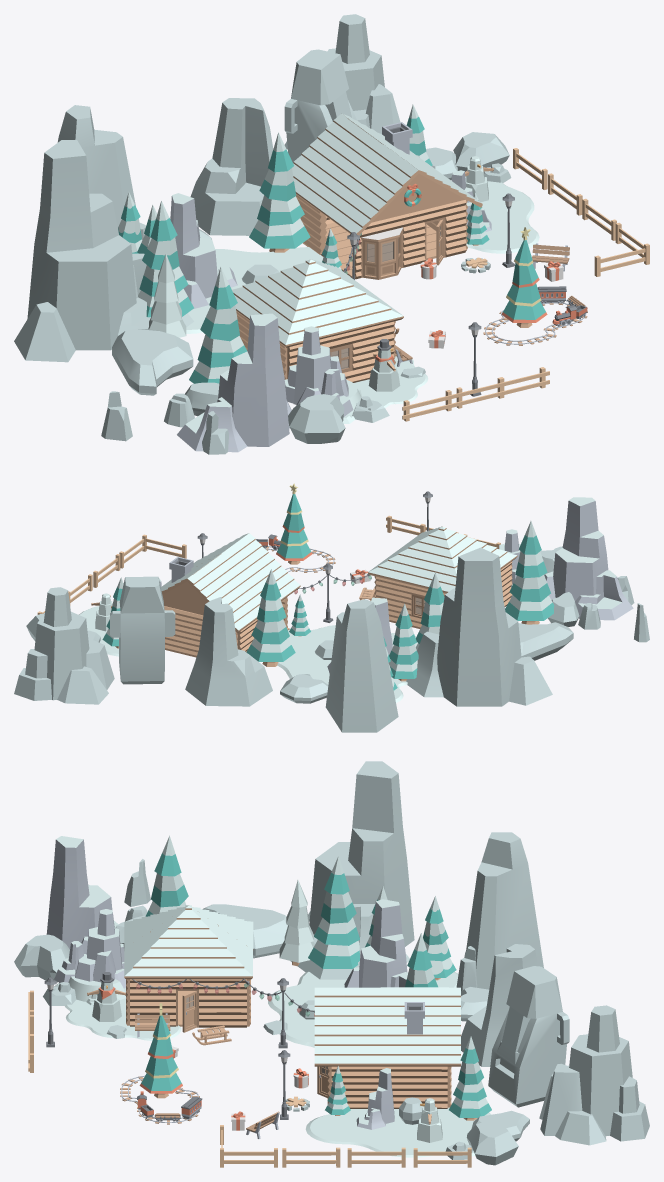
Rendered from christmas.glb.
3 renders of one model, top to bottom at view 1: azimuth 30°, elevation 25°; view 2: azimuth 150°, elevation 25°; view 3: azimuth 270°, elevation 25°, orthographic. The views are drawn at different scales.
Parts seen in each view (by area): view 1: stone_tall1, rockFormationLarge(Clone) (×2), treePineSnow(Clone) (×5), cabinRoof(Clone) (×3), cabinRoofCorner(Clone) (×3), stone_tall8, snowPatch(Clone) (×3), stone_statue, stone_tall2, stone_tall3, stone_large1, rockFormationMedium(Clone) (+24 smaller); view 2: stone_tall1, treePineSnow(Clone) (×6), stone_tall3, stone_tall2, rockFormationLarge(Clone) (×2), stone_tall8, stone_statue, cabinRoof(Clone) (×2), cabinRoofCorner(Clone) (×3), snowPatch(Clone) (×2), cabinWall(Clone) (×4), stone_large1 (+11 smaller); view 3: cabinRoof(Clone) (×2), stone_tall1, stone_tall2, rockFormationLarge(Clone) (×3), treePineSnow(Clone) (×5), cabinRoofCorner(Clone) (×4), snowPatch(Clone) (×3), stone_statue, stone_tall3, cabinWall(Clone) (×4), stone_tall8, rockFormationMedium(Clone) (+18 smaller).
Part boxes in pixels (left/top/right/bottom): stone_tall1: left=14, top=140, right=193, bottom=362; rockFormationLarge(Clone) (×2): left=170, top=193, right=291, bottom=452; treePineSnow(Clone) (×5): left=138, top=104, right=489, bottom=383; cabinRoof(Clone) (×3): left=292, top=113, right=482, bottom=235; cabinRoofCorner(Clone) (×3): left=232, top=259, right=403, bottom=347; stone_tall8: left=190, top=98, right=273, bottom=235; snowPatch(Clone) (×3): left=186, top=176, right=539, bottom=407; stone_statue: left=284, top=49, right=356, bottom=163; stone_tall2: left=284, top=14, right=400, bottom=149; stone_tall3: left=57, top=105, right=135, bottom=227; stone_large1: left=112, top=329, right=193, bottom=395; rockFormationMedium(Clone): left=284, top=326, right=348, bottom=405; stone_tall1: left=406, top=547, right=552, bottom=706; treePineSnow(Clone) (×6): left=102, top=521, right=554, bottom=681; stone_tall3: left=325, top=599, right=398, bottom=732; stone_tall2: left=14, top=587, right=114, bottom=704; rockFormationLarge(Clone) (×2): left=327, top=497, right=633, bottom=673; stone_tall8: left=185, top=597, right=272, bottom=706; stone_statue: left=110, top=576, right=175, bottom=684; cabinRoof(Clone) (×2): left=187, top=533, right=300, bottom=632; cabinRoofCorner(Clone) (×3): left=368, top=526, right=517, bottom=593; snowPatch(Clone) (×2): left=79, top=606, right=417, bottom=702; cabinWall(Clone) (×4): left=164, top=561, right=512, bottom=656; stone_large1: left=518, top=622, right=573, bottom=660; cabinRoof(Clone) (×2): left=314, top=987, right=460, bottom=1066; stone_tall1: left=290, top=761, right=414, bottom=979; stone_tall2: left=539, top=1005, right=649, bottom=1145; rockFormationLarge(Clone) (×3): left=46, top=836, right=407, bottom=1129; treePineSnow(Clone) (×5): left=145, top=835, right=491, bottom=1120; cabinRoofCorner(Clone) (×4): left=124, top=905, right=253, bottom=979; snowPatch(Clone) (×3): left=65, top=971, right=490, bottom=1157; stone_statue: left=488, top=966, right=569, bottom=1107; stone_tall3: left=466, top=832, right=543, bottom=989; cabinWall(Clone) (×4): left=134, top=979, right=447, bottom=1108; stone_tall8: left=461, top=944, right=537, bottom=1066; rockFormationMedium(Clone): left=75, top=909, right=125, bottom=988.
Bounding box in the file's own units: 11.09 × 3.16 × 10.96.
